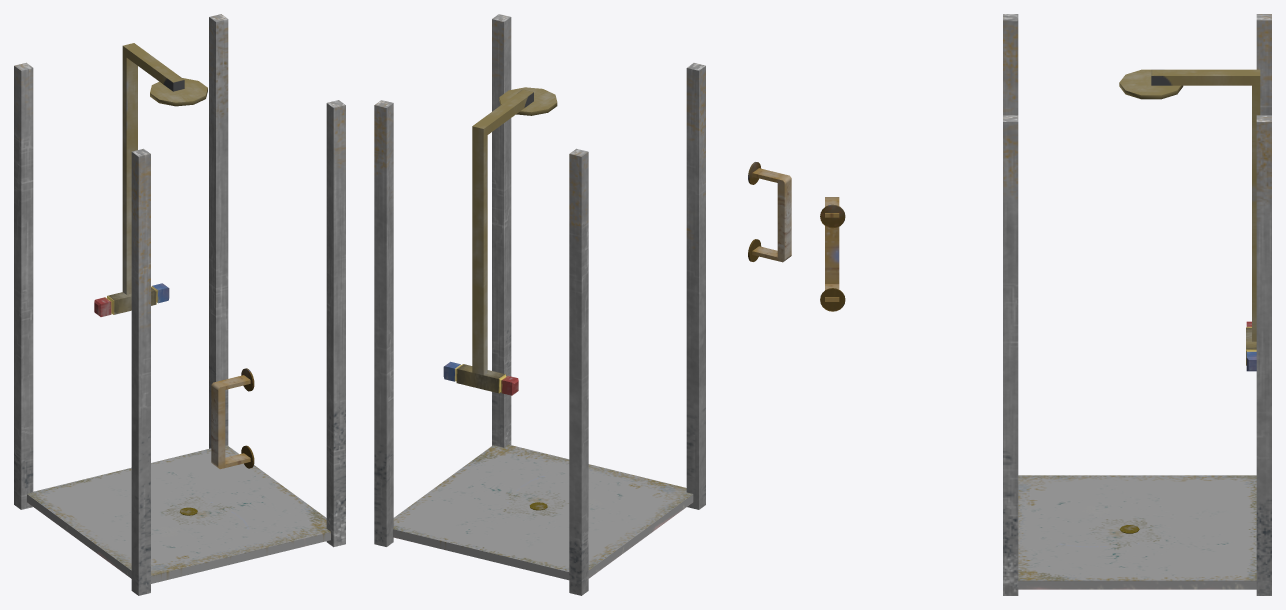
Rendered from shower uv metal part.fbx.
3 renders of one model, left to right at view 1: azimuth 30°, elevation 25°; view 2: azimuth 150°, elevation 25°; view 3: azimuth 270°, elevation 25°, orthographic. The views are drawn at different scales.
Parts seen in each view (by area): view 1: p12; view 2: p12; view 3: p12.
Boxes of the visible parts, x1,y1,x2,y2 form: p12: (14,14,345,595); p12: (374,14,791,595); p12: (820,14,1271,595).
Bounding box in the file's own units: 2.19 × 4.39 × 3.78.
